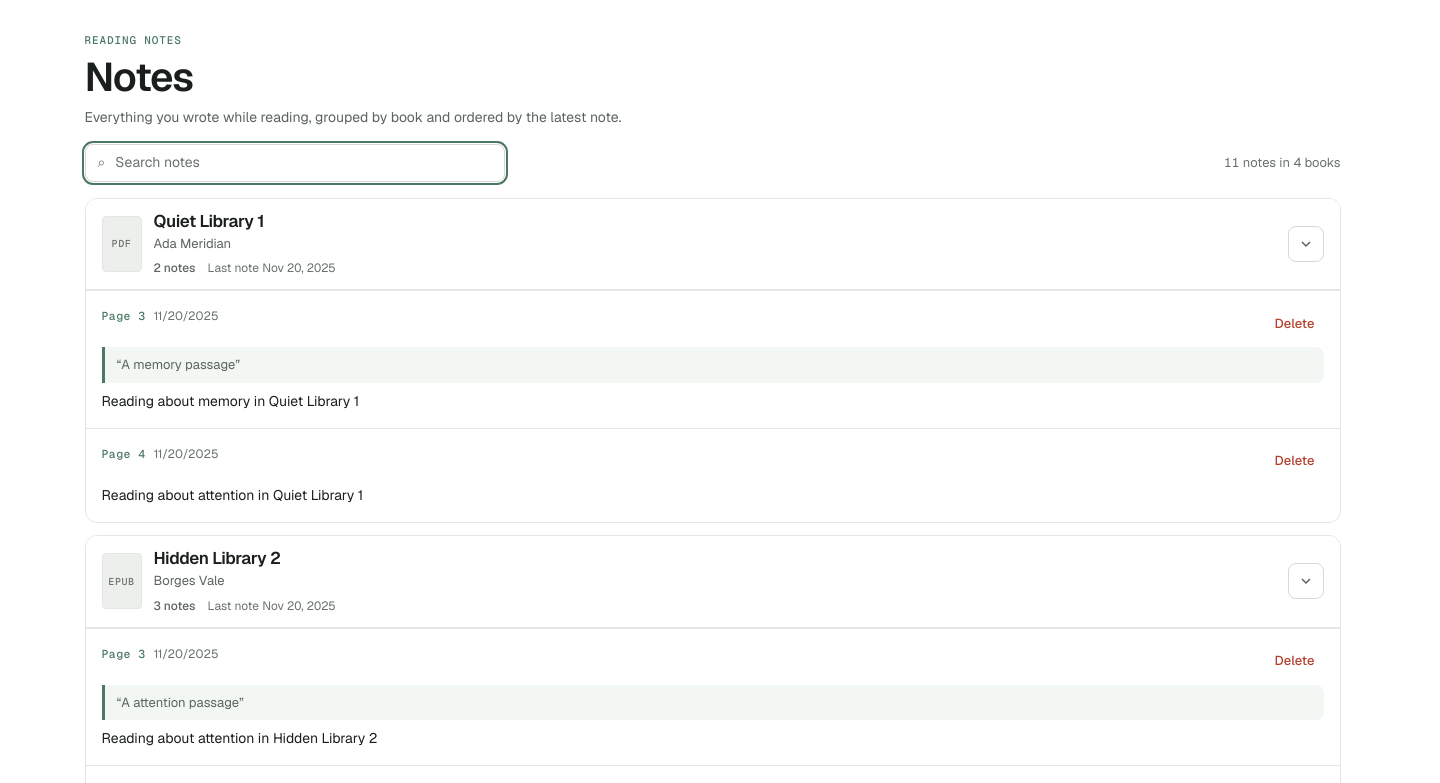
Scenario: NotesPage groups › ignores an older search response that resolves after a newer one
Check: the heading "Quiet Library 1" is shown, box [154,210,264,232]
In the field named "Search notes": {"x": 302, "y": 162} [113,151,492,174], type "Hidden Library 2"
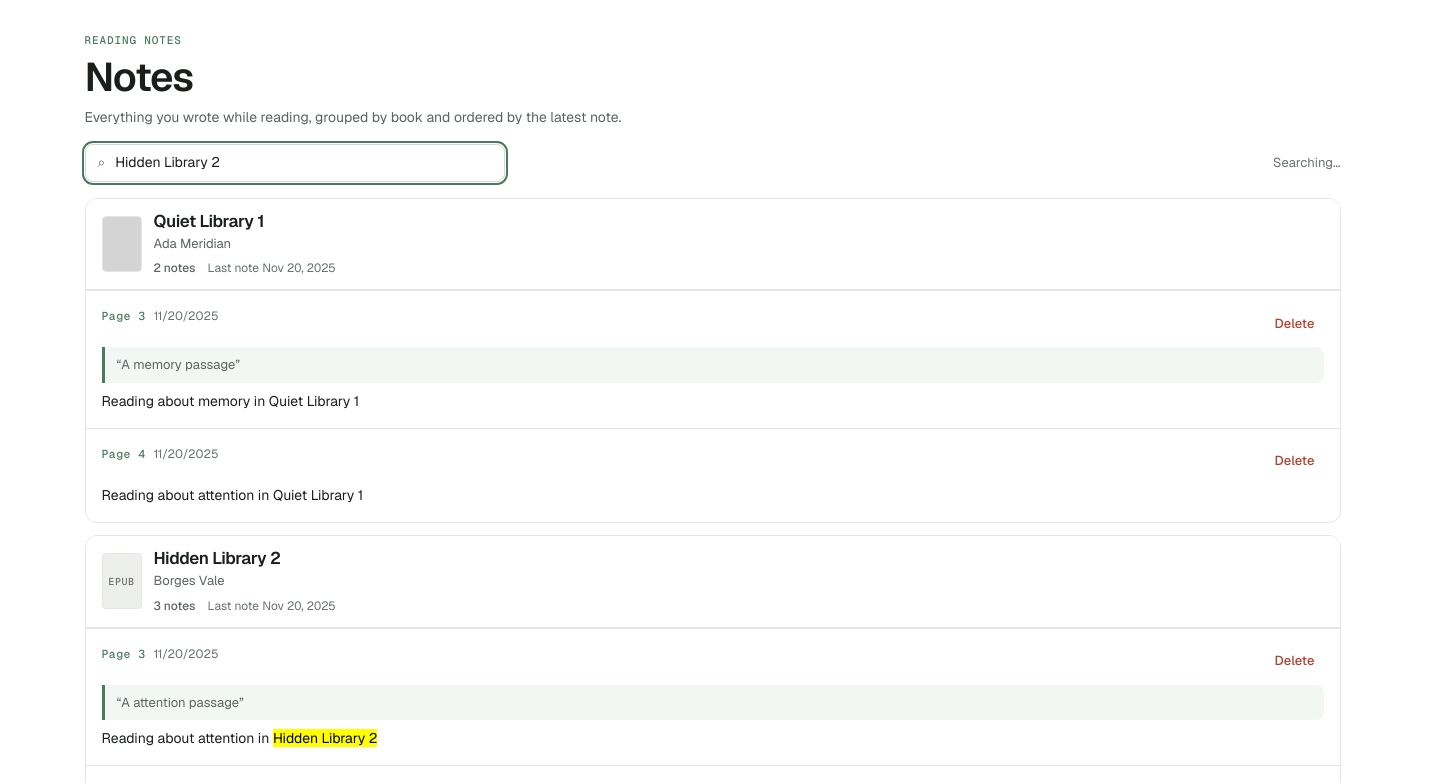
Replace the text in the field named "Search notes" with "Quiet Library 1": {"x": 302, "y": 162} [113,151,492,174]
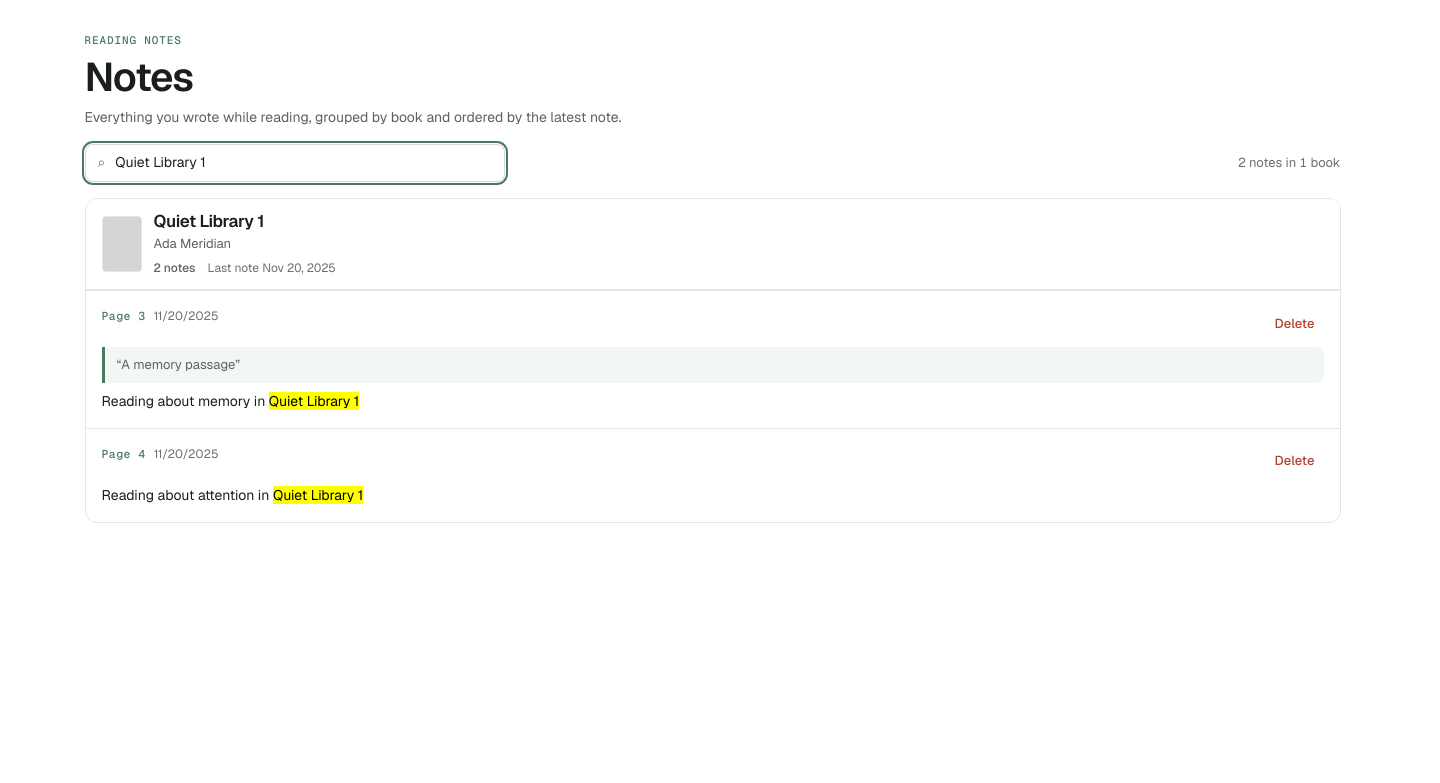
Check: the heading "Quiet Library 1" is shown, box [154,210,264,232]
Check: the link "Hidden Library 2" is gone
